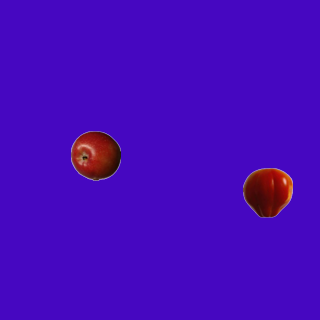Apple Braeburn: (70, 130, 120, 180)
Tomato 1: (242, 167, 292, 217)
